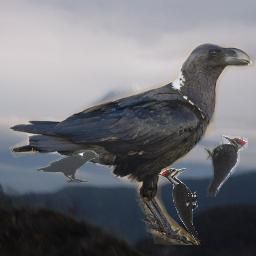Crow: (9, 43, 255, 245), (35, 150, 99, 183)
Woodpecker: (158, 168, 198, 245), (204, 135, 248, 197)
